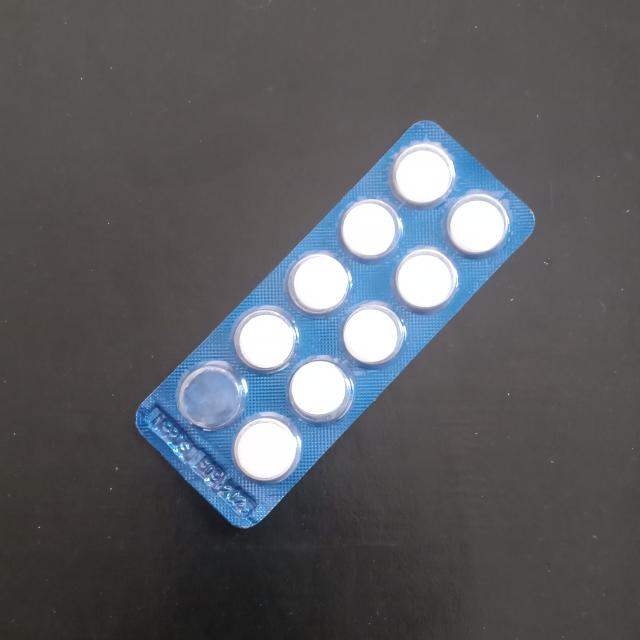defect: (176, 363, 244, 430)
